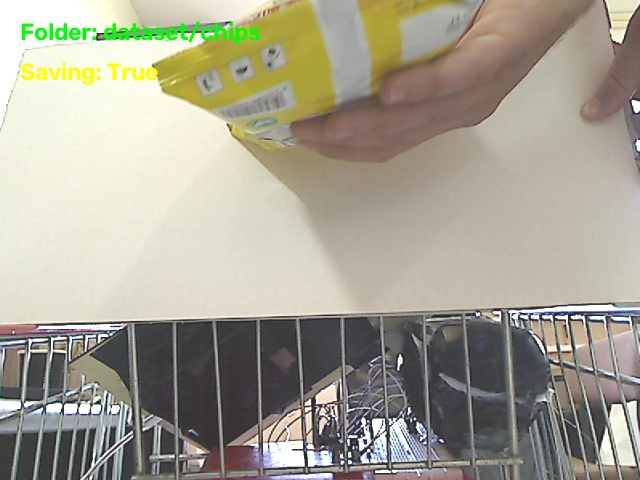chips: (154, 0, 482, 149)
